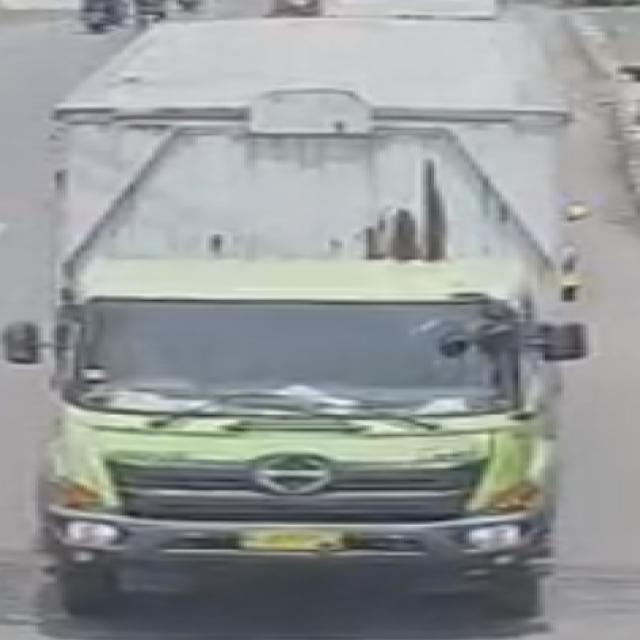Truck: (47, 21, 611, 623)
